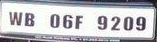character: (8, 10, 22, 26), (122, 15, 133, 31), (49, 13, 60, 28), (62, 14, 73, 29), (96, 15, 107, 30), (135, 16, 146, 31), (24, 12, 34, 27), (110, 16, 120, 31), (74, 14, 83, 29)
